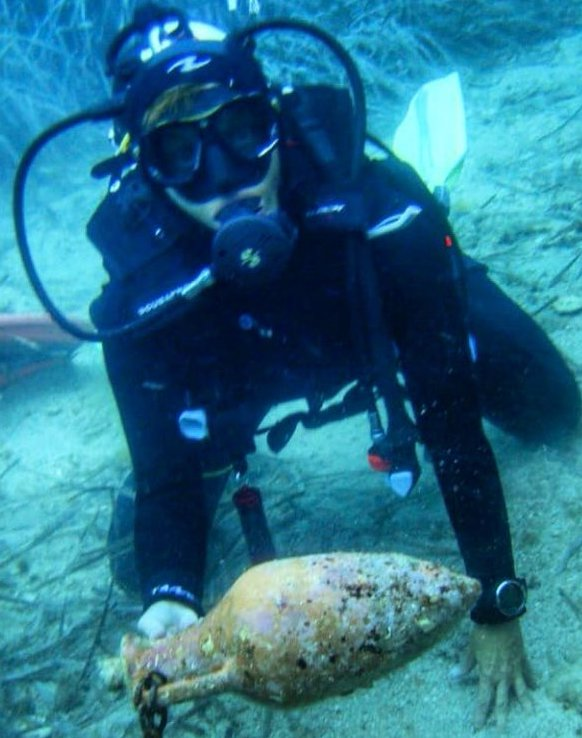amphora: (118, 549, 486, 708)
